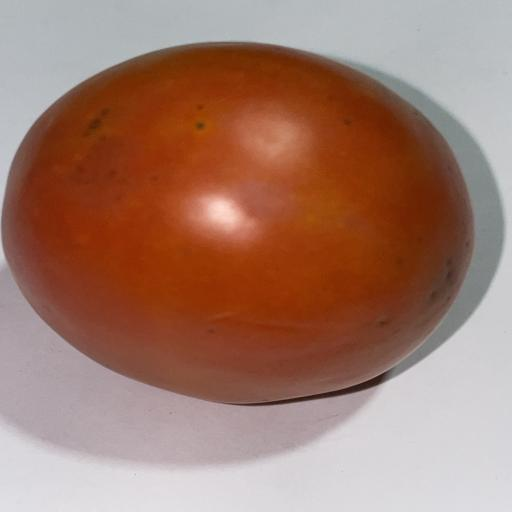ripe: (2, 43, 474, 403)
